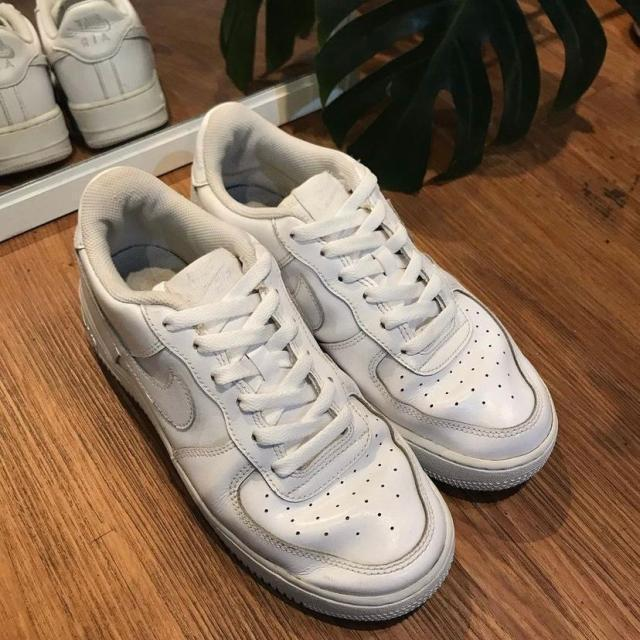nike fake air force: (61, 158, 461, 622), (190, 106, 560, 498)
